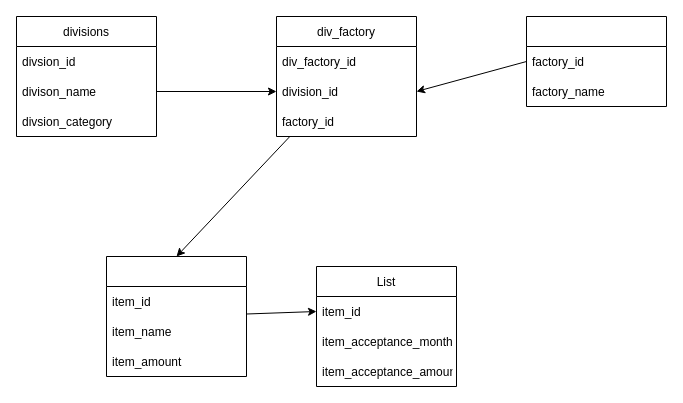
The diagram is 683 pixels wide and 403 high, and some of its shapes have lost their labels. The box of each missing label's shape, as (x1, y1, x2, y2) in pixels:
factorys: (526, 16, 666, 106)
investmentitems: (106, 256, 246, 376)
